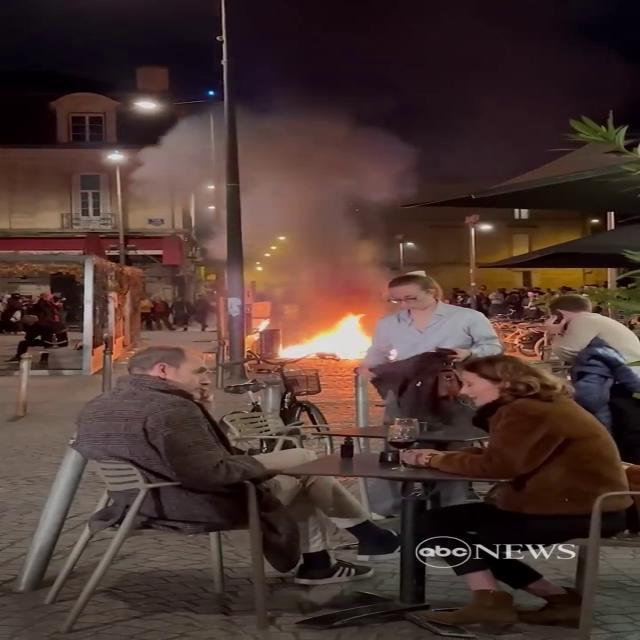Fire: (271, 308, 380, 367)
Smoke: (154, 83, 432, 307)
